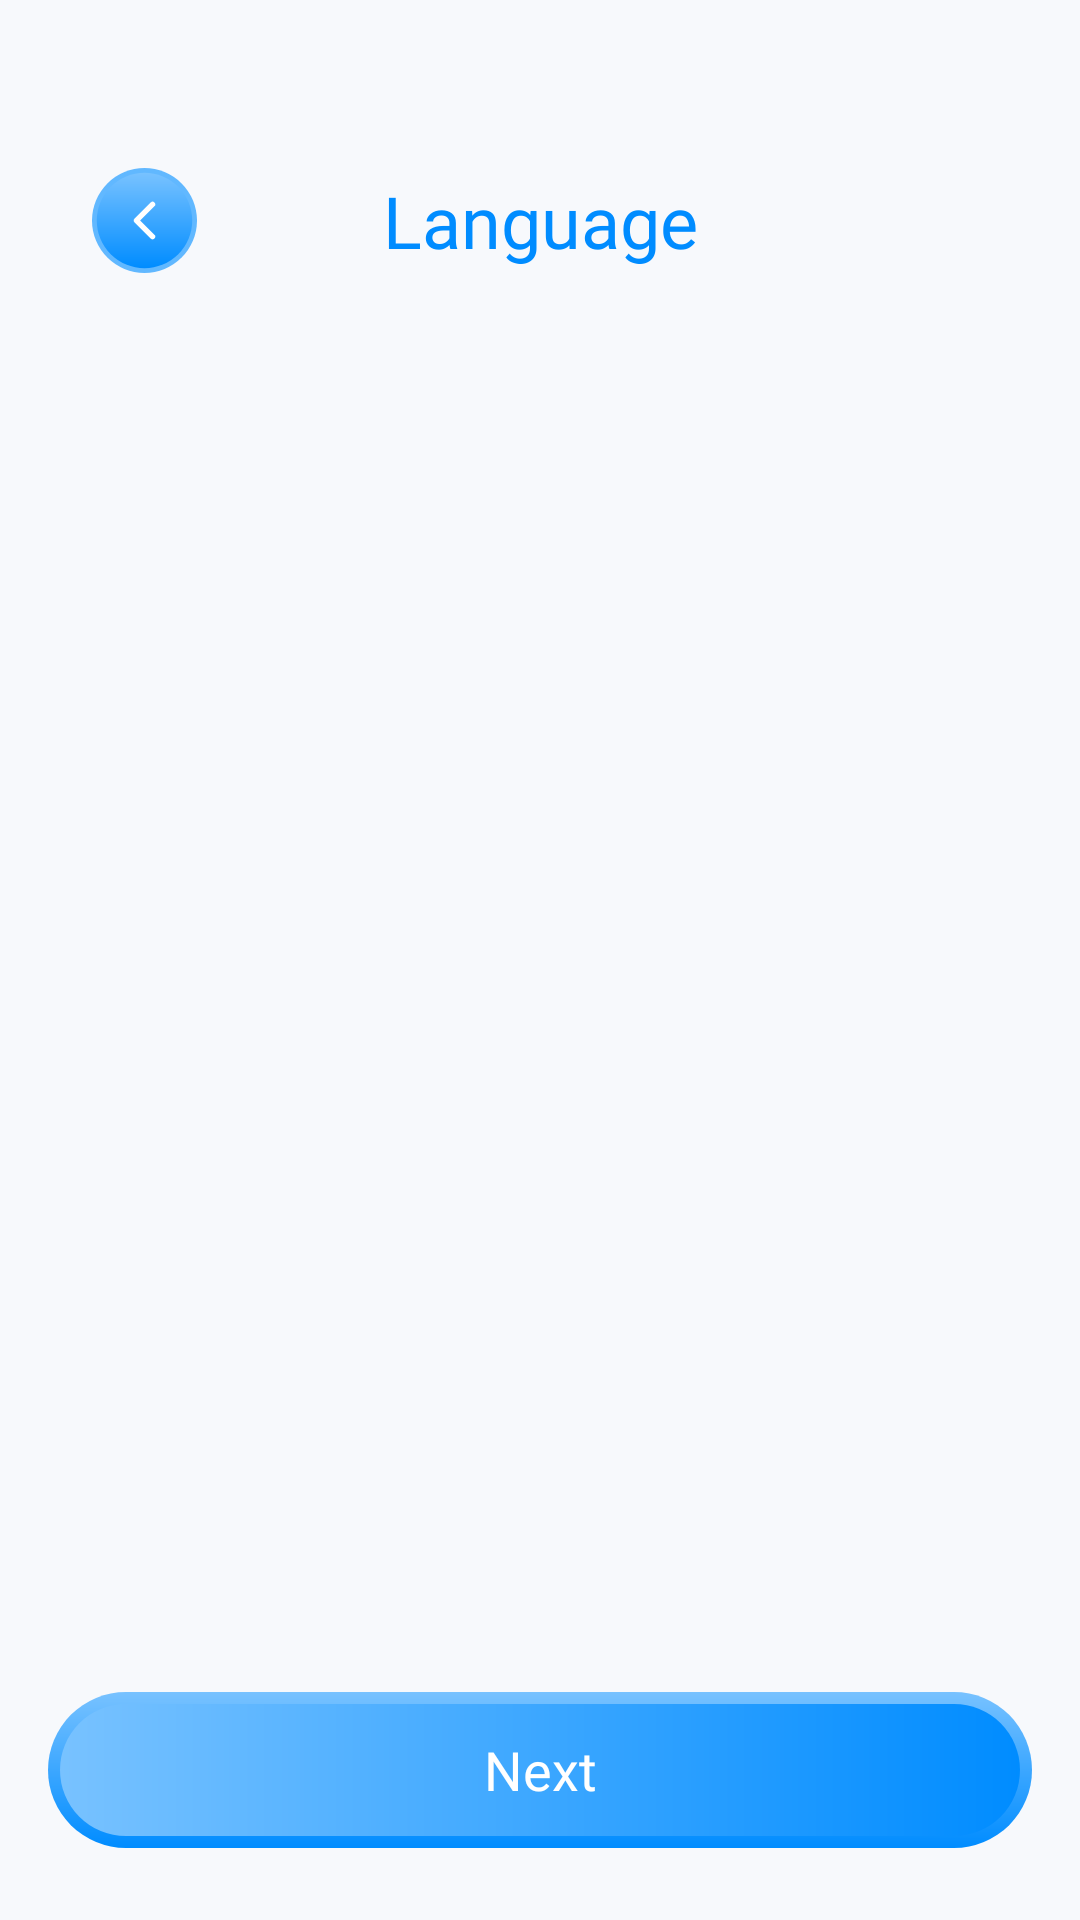

Named icons in this screenshot (1080 x 1920) and their centers, point (x, y):
back: point (144, 220)
